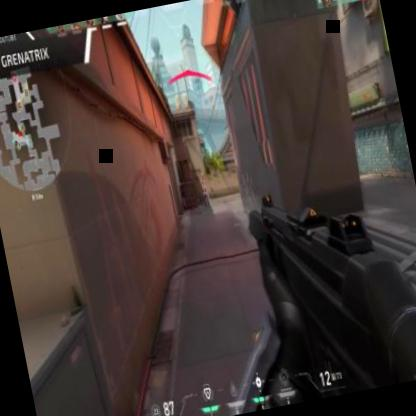enemy: (200, 180, 210, 206)
enemy_head: (200, 180, 204, 184)
